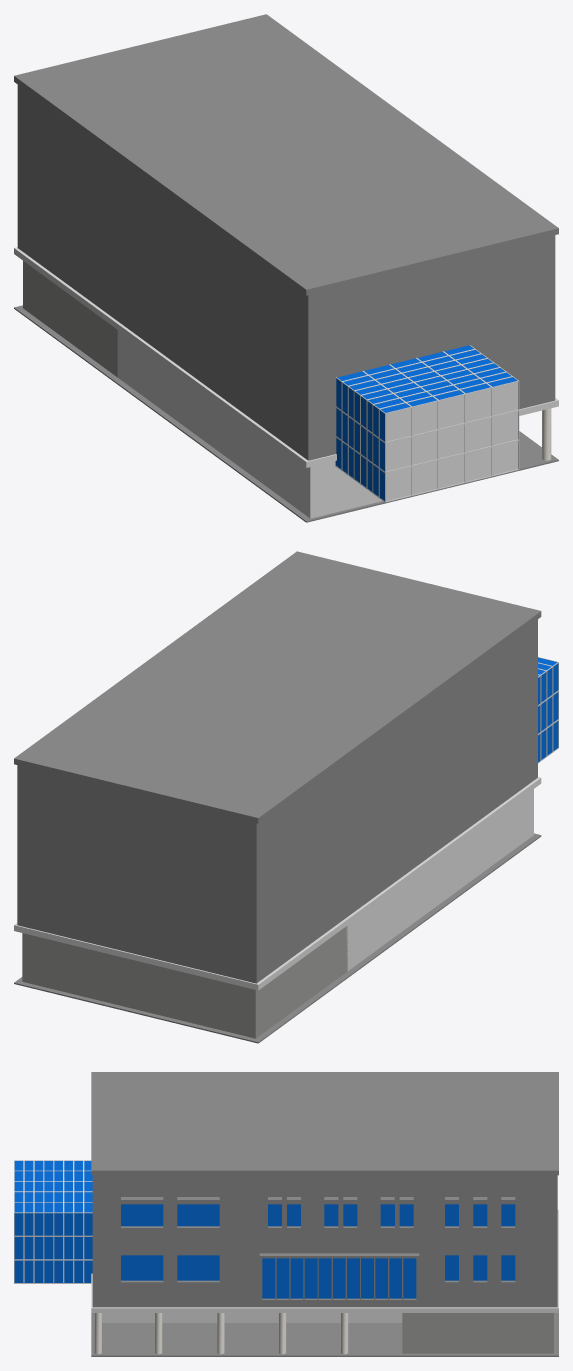
Rendered from 실용음악관.fbx.
3 views of the same model, one above another, from view 1: azimuth 30°, elevation 25°; view 2: azimuth 150°, elevation 25°; view 3: azimuth 270°, elevation 25° (orthographic). The views are drawn at different scales.
Visible parts, largest first — view 1: Cube, Cube_5, Cube_21, Cube_1, Cube_94, Cube_13, Cube_20, Cube_12; view 2: Cube, Cube_5, Cube_13, Cube_1, Cube_12, Cube_20, Cube_94, Cube_21; view 3: Cube, Cube_5, Cube_95, Cube_20, Cube_94, Cube_13, Cube_12, Cube_21, Cube_1, Cylinder_2, Cylinder_4.
Boxes of the visible parts, <box> form: Cube: <box>17,85,555,460</box>; Cube_5: <box>14,14,558,295</box>; Cube_21: <box>335,345,519,502</box>; Cube_1: <box>117,330,382,518</box>; Cube_94: <box>336,345,517,500</box>; Cube_13: <box>23,261,117,377</box>; Cube_20: <box>14,305,558,522</box>; Cube_12: <box>14,247,558,467</box>; Cube: <box>17,619,537,983</box>; Cube_5: <box>14,551,541,823</box>; Cube_13: <box>22,926,347,1038</box>; Cube_1: <box>346,789,533,970</box>; Cube_12: <box>14,777,541,990</box>; Cube_20: <box>14,833,541,1043</box>; Cube_94: <box>538,657,558,762</box>; Cube_21: <box>538,657,558,763</box>; Cube: <box>92,1175,557,1307</box>; Cube_5: <box>91,1072,558,1175</box>; Cube_95: <box>121,1204,515,1298</box>; Cube_20: <box>91,1313,558,1356</box>; Cube_94: <box>14,1161,92,1282</box>; Cube_13: <box>402,1313,553,1353</box>; Cube_12: <box>91,1209,558,1312</box>; Cube_21: <box>14,1160,92,1283</box>; Cube_1: <box>94,1313,402,1322</box>; Cylinder_2: <box>278,1313,286,1354</box>; Cylinder_4: <box>340,1313,348,1354</box>.
Size of the model in its own units: 386 by 332 by 882.
